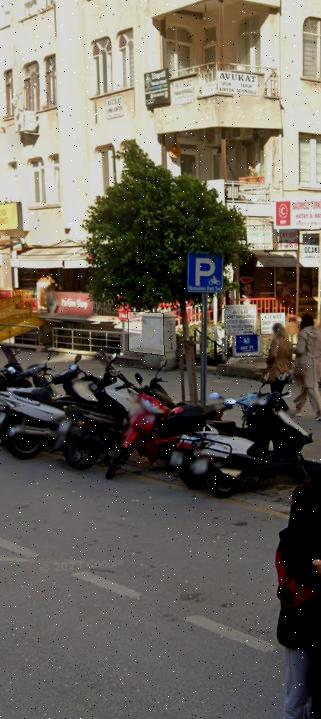park: (189, 254, 222, 287)
